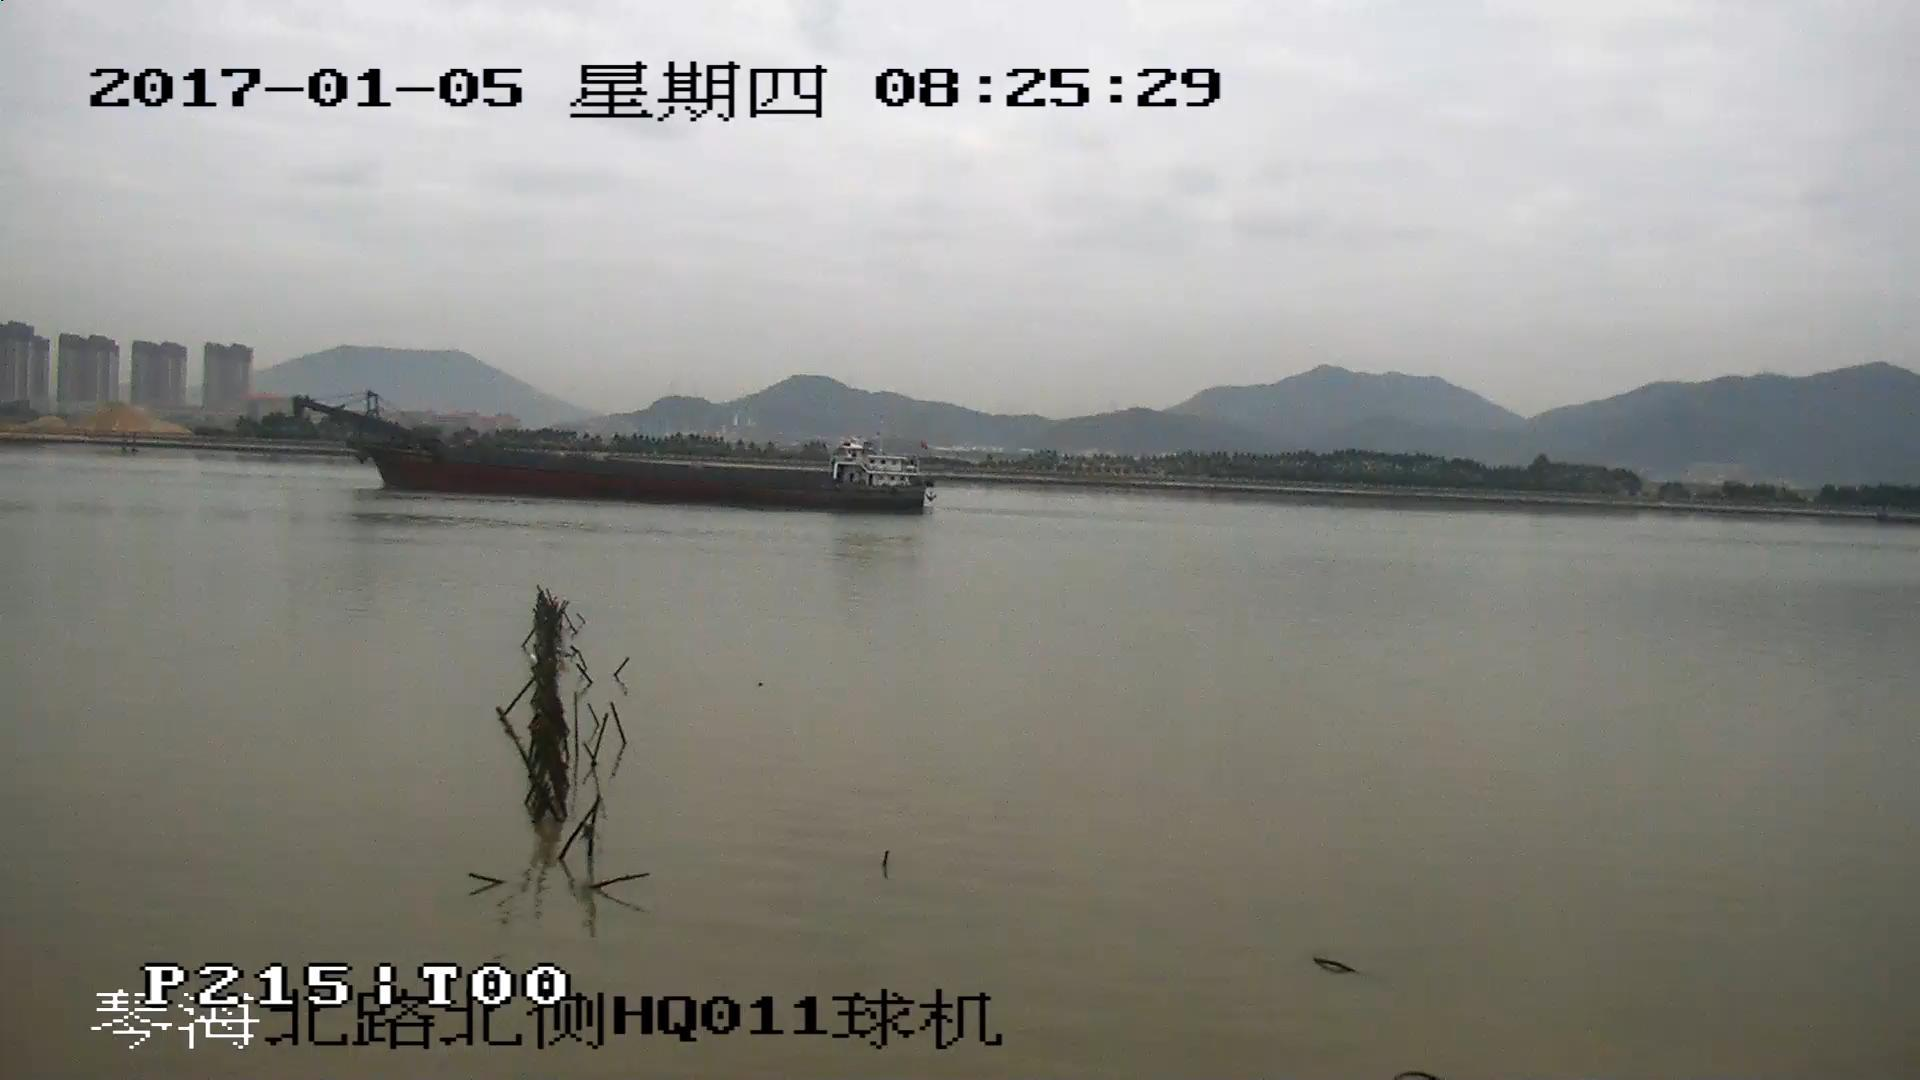Ship: (291, 392, 935, 514)
